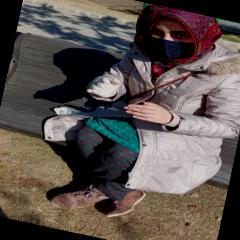gloved: (86, 72, 122, 99)
not-gloved: (123, 98, 172, 126)
